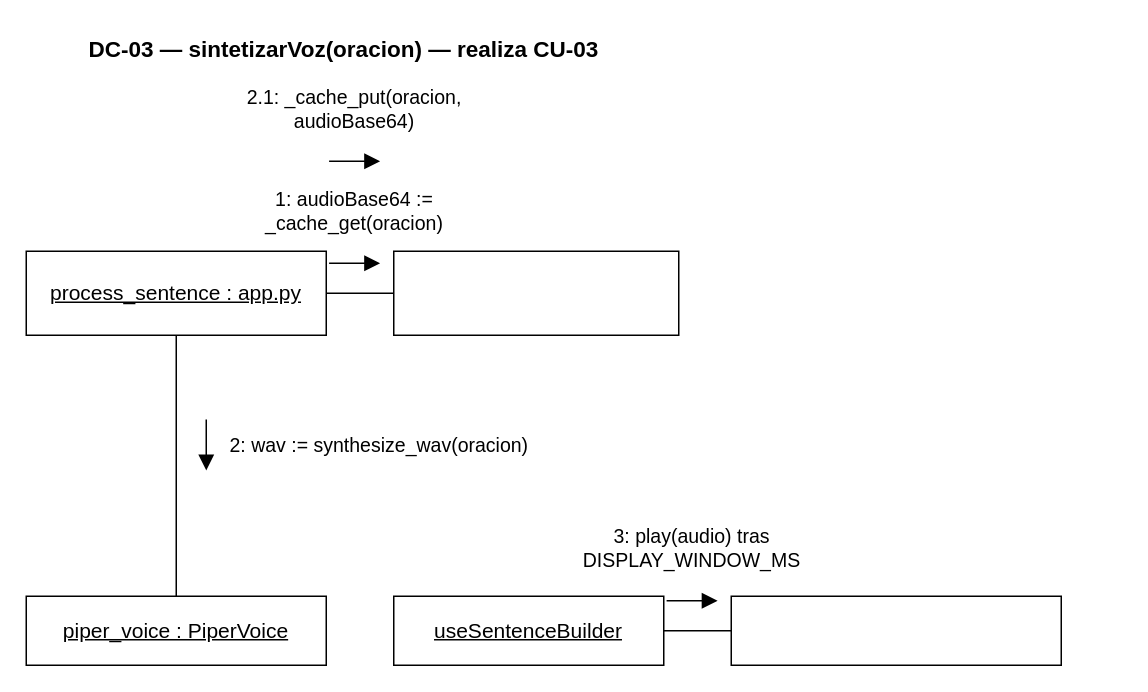
This 1148x692 diagram has some shape labels left out. Here are the shapes that lost their labels. From the top down, the centre of each, then its label:
At point (535, 292): "_audio_cache".
At point (895, 630): "Audio (reproducción en navegador)".
